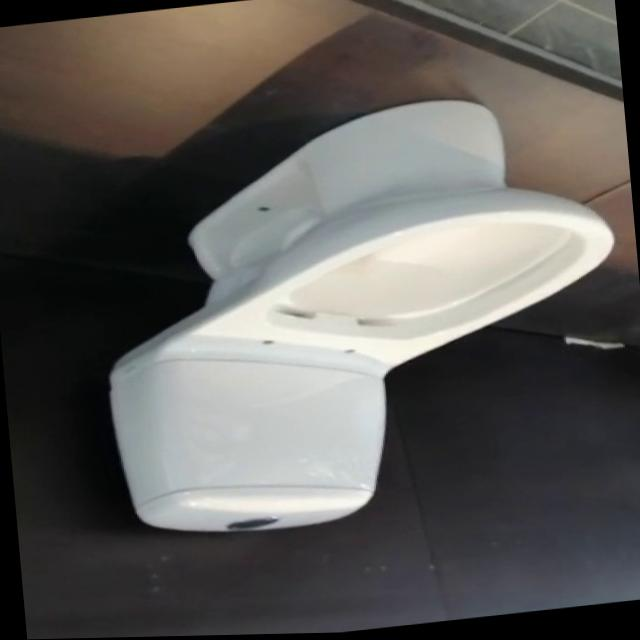toilet: (87, 83, 639, 549)
